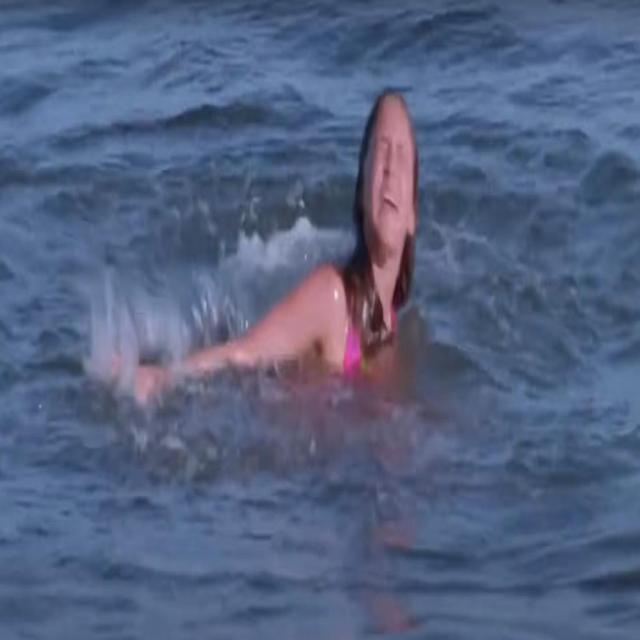Out of Water: (96, 77, 423, 388)
